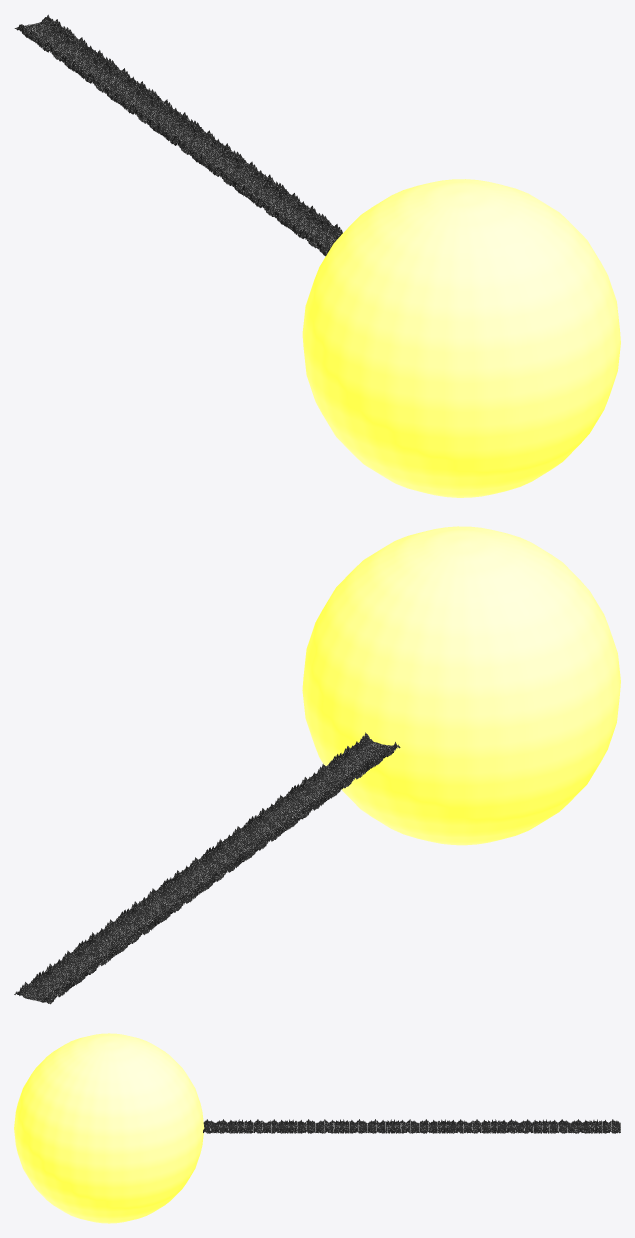
Rendered from retrowave-transformed.glb.
The picture shows the model from 3 angles, top to bottom: view 1: azimuth 30°, elevation 25°; view 2: azimuth 150°, elevation 25°; view 3: azimuth 270°, elevation 25°; orthographic projection. The views are drawn at different scales.
Parts seen in each view (by area): view 1: Sphere, Plane; view 2: Sphere, Plane; view 3: Sphere, Plane.
Part boxes in pixels (x1,y1,x2,y2): Sphere: (302, 179, 620, 497); Plane: (14, 14, 342, 256); Sphere: (302, 526, 620, 845); Plane: (14, 732, 400, 1004); Sphere: (14, 1033, 204, 1223); Plane: (203, 1119, 620, 1133).
Size of the model in its own units: 120 by 120 by 383.
